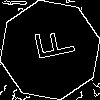F: (25, 25, 76, 64)
